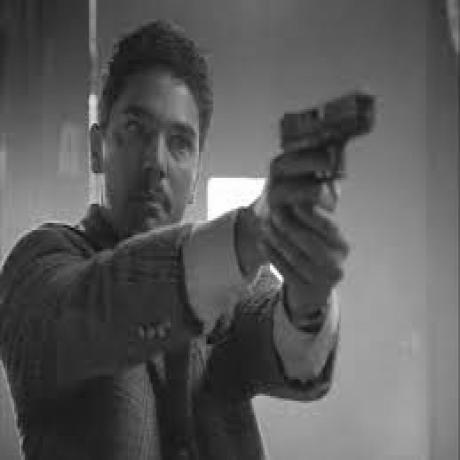Guns: (276, 87, 377, 200)
